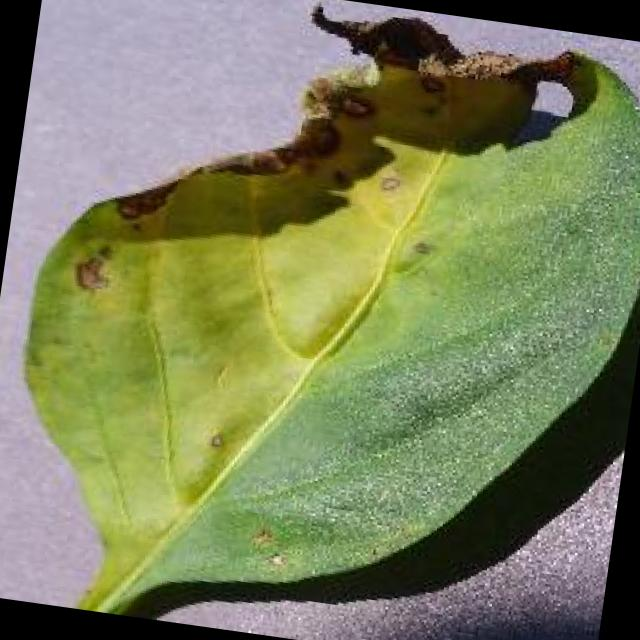Chilli_Bacterial_Spot: (0, 0, 640, 640), (288, 0, 592, 174), (298, 0, 468, 84), (109, 168, 181, 232), (66, 238, 122, 298), (240, 517, 296, 573), (292, 110, 346, 166), (330, 85, 380, 126), (245, 520, 279, 554), (373, 168, 404, 200), (404, 234, 436, 262), (203, 428, 226, 453)
